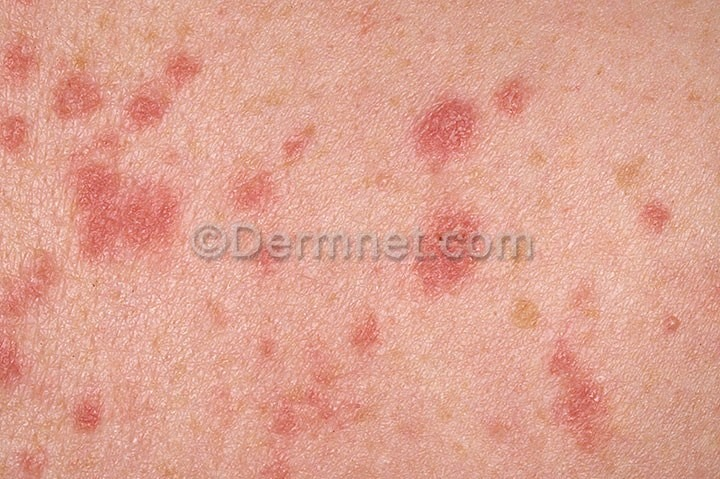Psoriasis: (7, 35, 323, 284), (393, 68, 537, 329), (250, 305, 396, 446), (1, 286, 130, 441), (513, 321, 645, 465), (615, 140, 689, 249)
